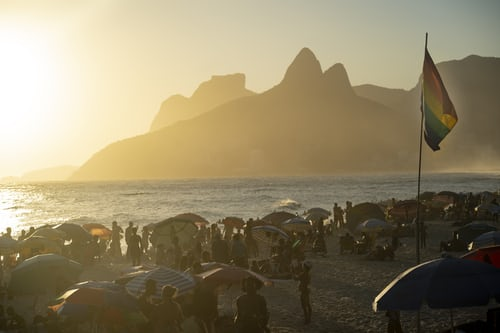Flag: (421, 48, 458, 152)
